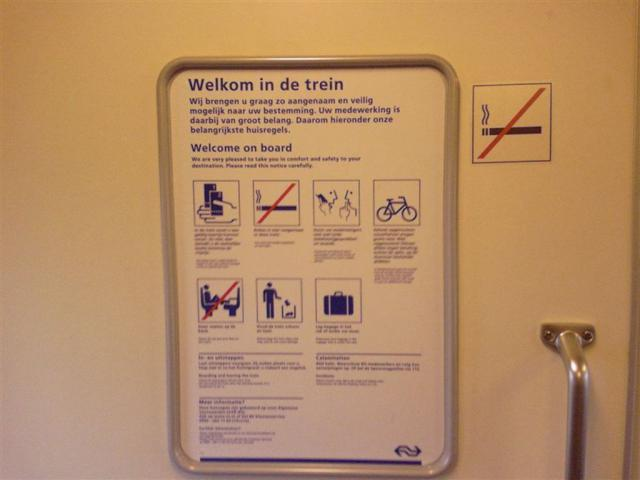Door-handle: (542, 322, 596, 479)
